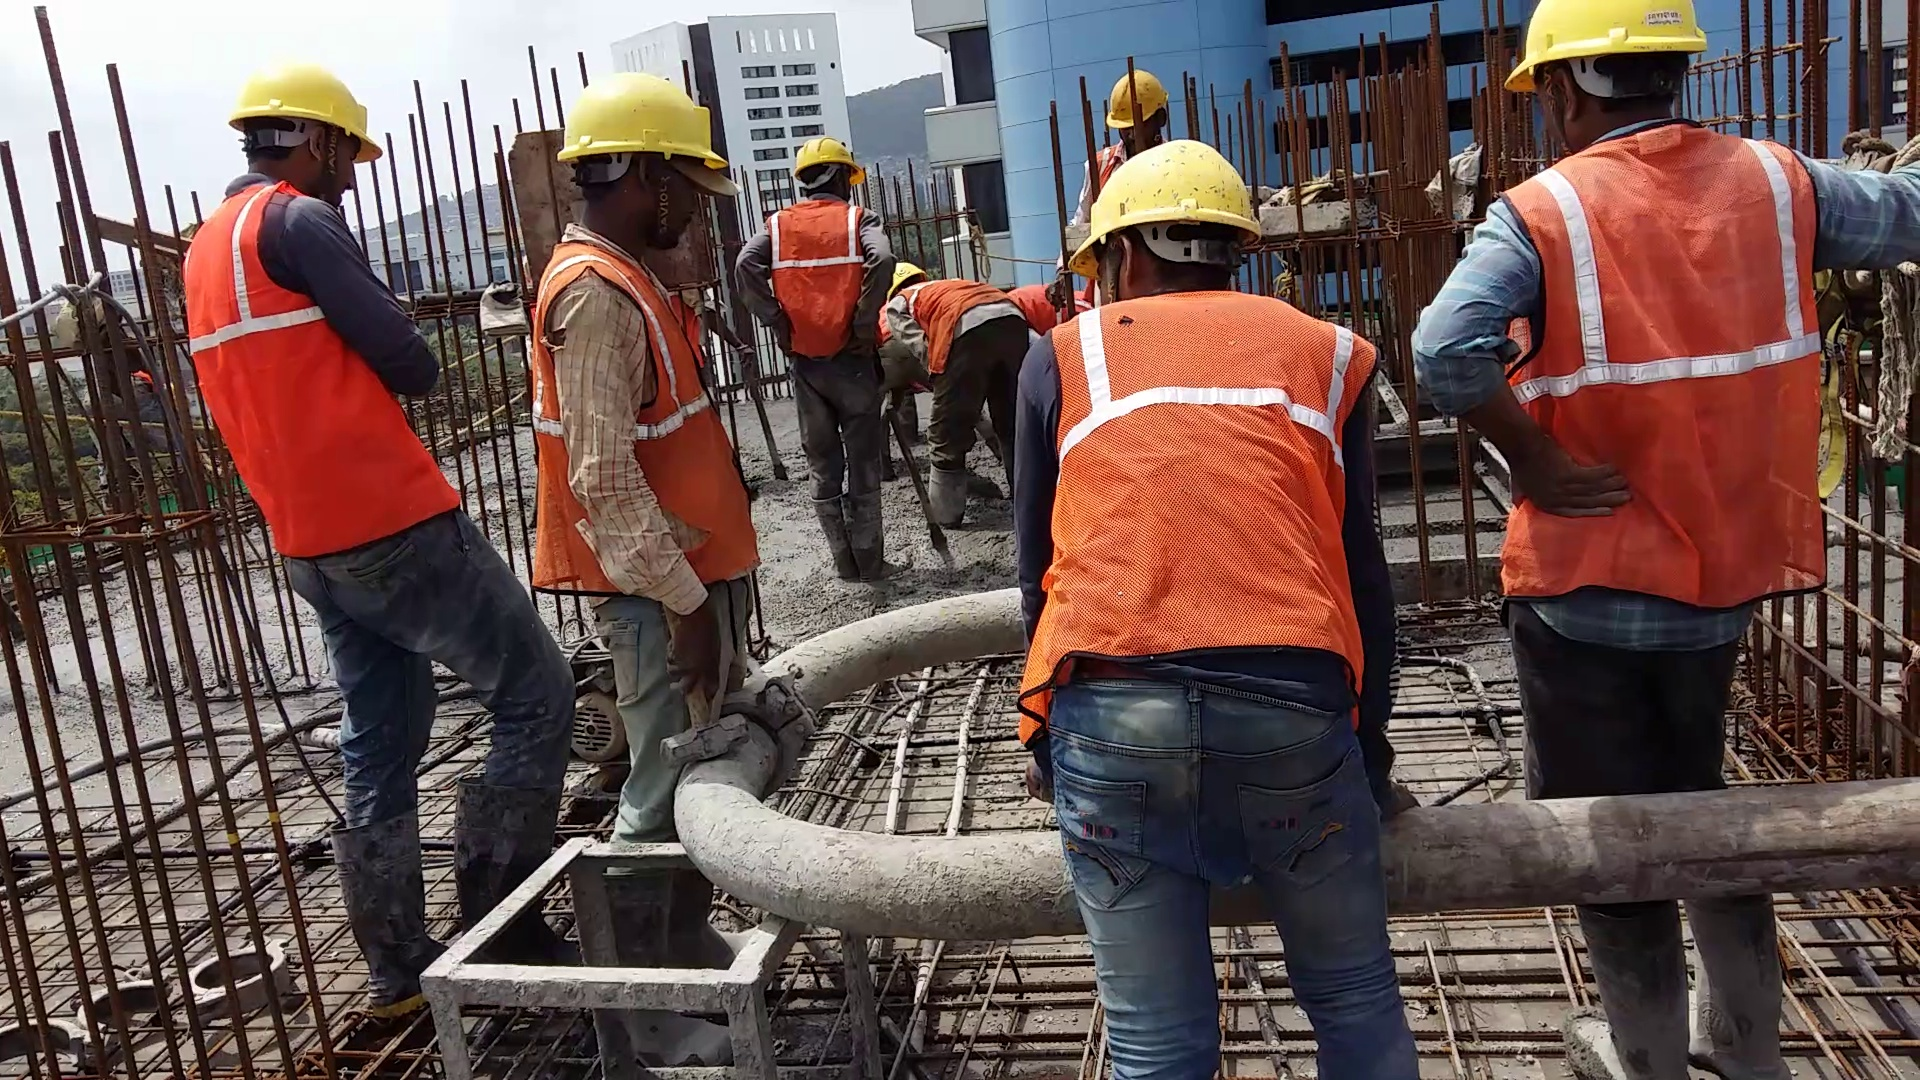SAFE: (1507, 3, 1821, 603), (1023, 137, 1364, 686), (181, 63, 388, 554), (539, 76, 732, 593), (767, 131, 866, 365)
